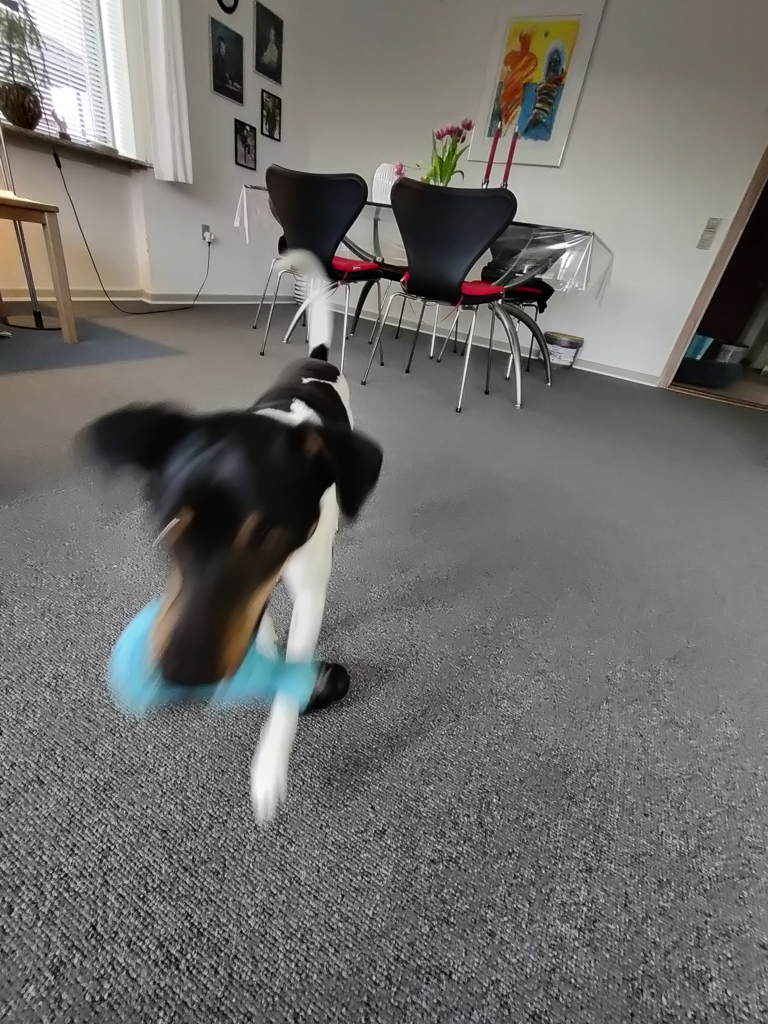Dog: (51, 238, 445, 851)
